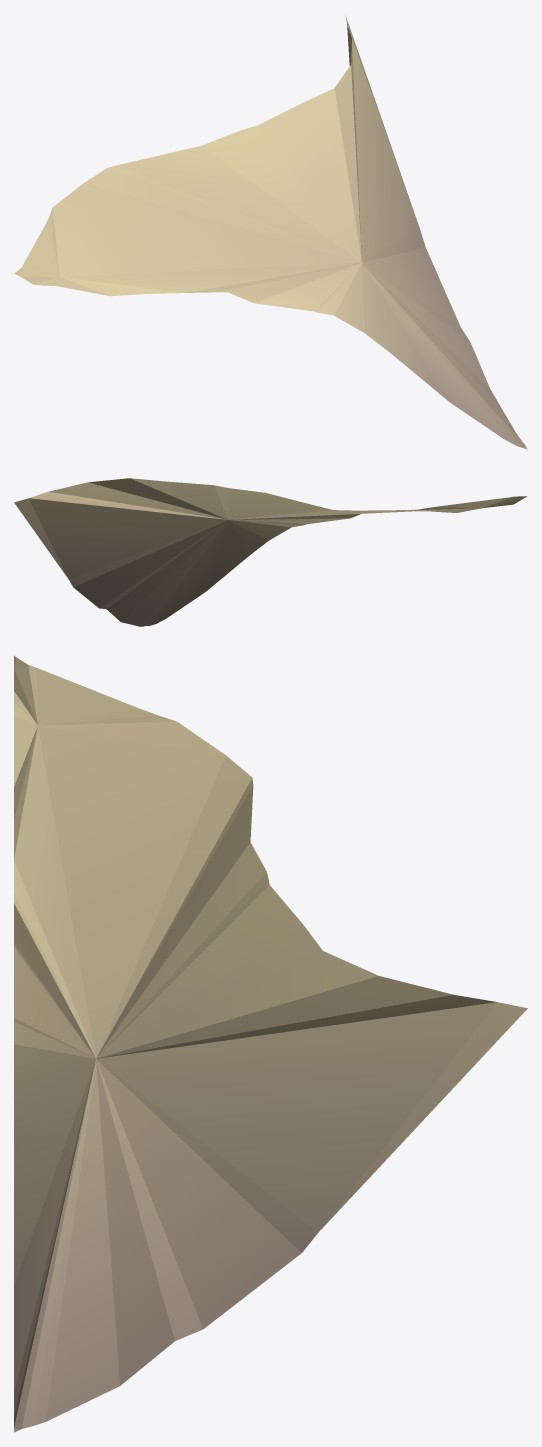
The model's file is bisect-4-2-3.gltf.
3 renders of one model, top to bottom at view 1: azimuth 30°, elevation 25°; view 2: azimuth 150°, elevation 25°; view 3: azimuth 270°, elevation 25°, orthographic. The views are drawn at different scales.
Parts seen in each view (by area): view 1: bisect-4-2-3; view 2: bisect-4-2-3; view 3: bisect-4-2-3.
Part boxes in pixels (<box>): bisect-4-2-3: <box>14,15,527,449</box>; bisect-4-2-3: <box>14,478,527,626</box>; bisect-4-2-3: <box>14,655,527,1432</box>.
Bounding box in the file's own units: 19.17 × 10.74 × 11.8.
